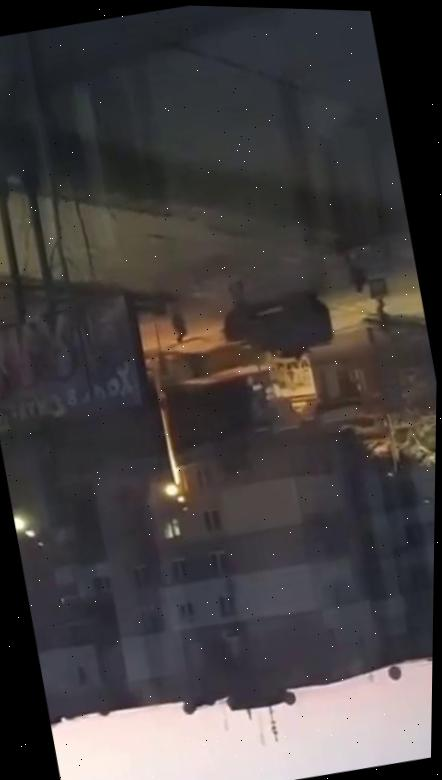armored_car: (216, 287, 338, 372)
person: (335, 240, 377, 298), (223, 278, 261, 332), (159, 290, 194, 348)
